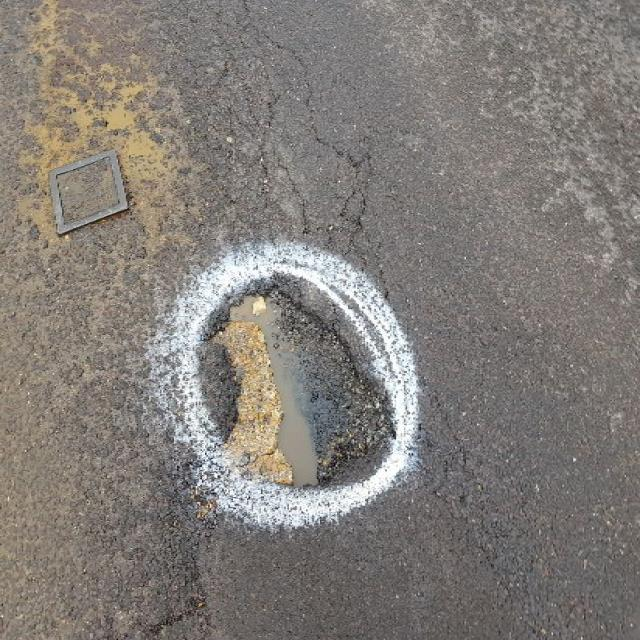pothole: (184, 270, 406, 498)
